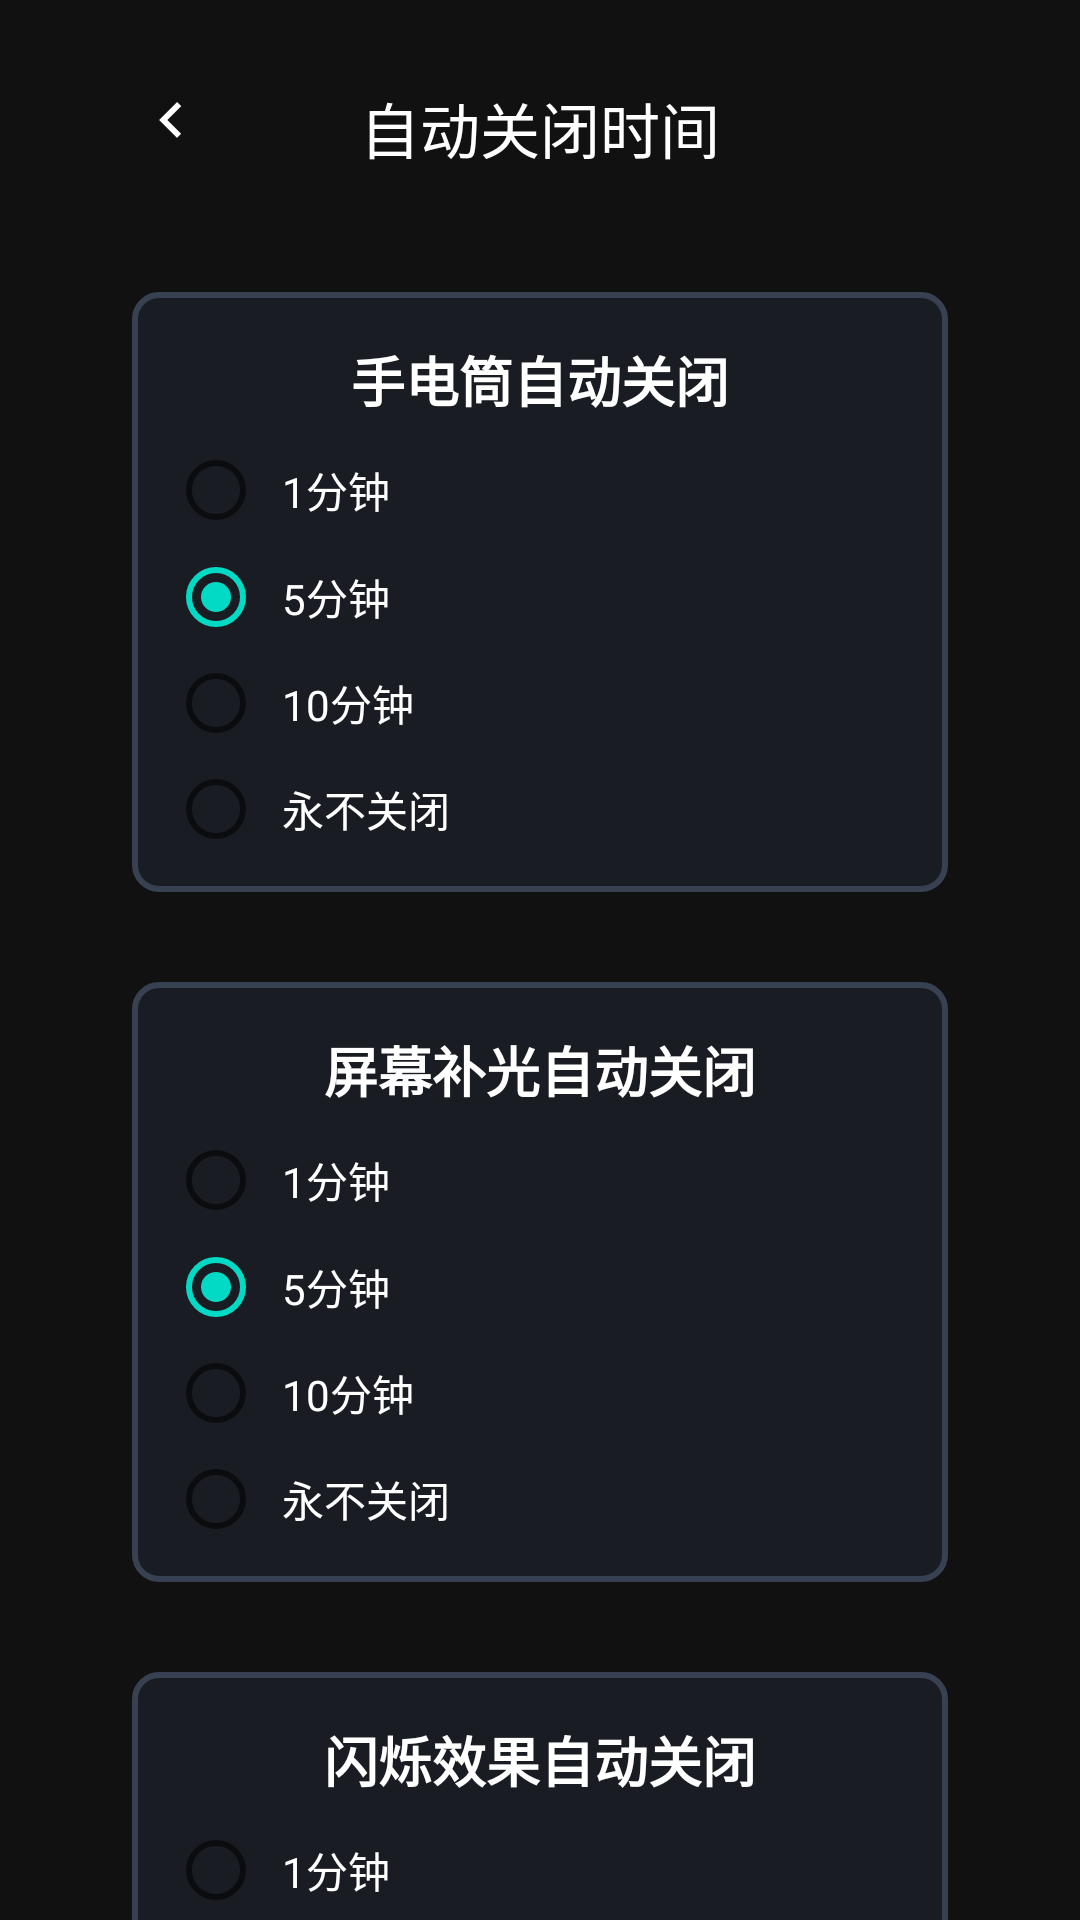

Point at icon controls on the screen. Image size 1080×1920, points as (x=x, y=y).
返回: (x=170, y=120)
